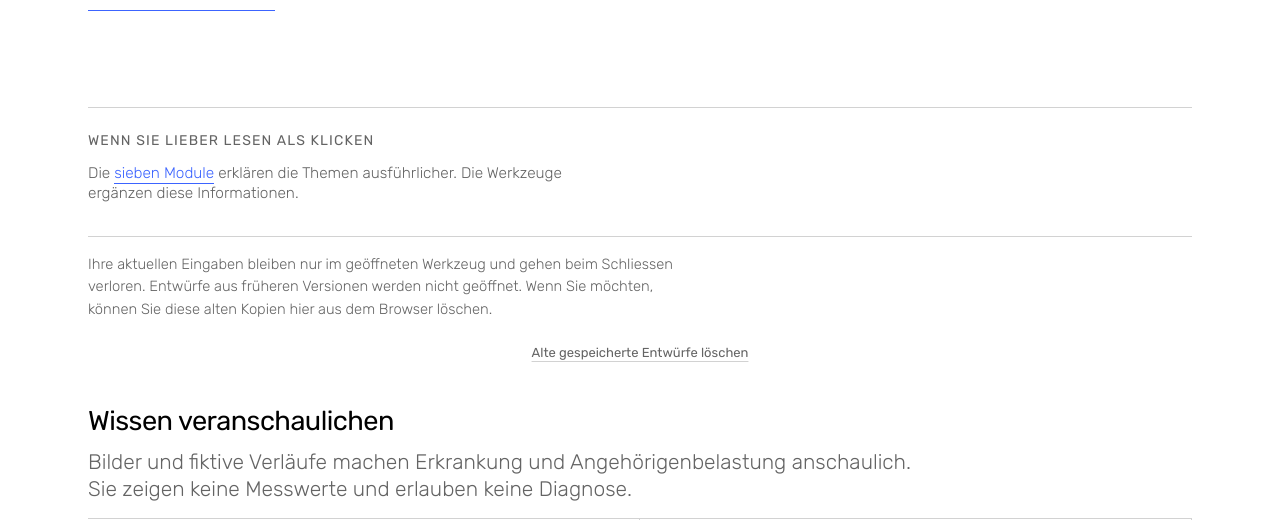
Test case: WerkzeugePage legacy draft deletion › deletes both historical drafts after confirmation and preserves unrelated data
This screenshot has width=1280, height=520.
(page scrolled)
Step 1. Click the button "Alte gespeicherte Entwürfe löschen" → (640, 353), box [88,331,1192,375]
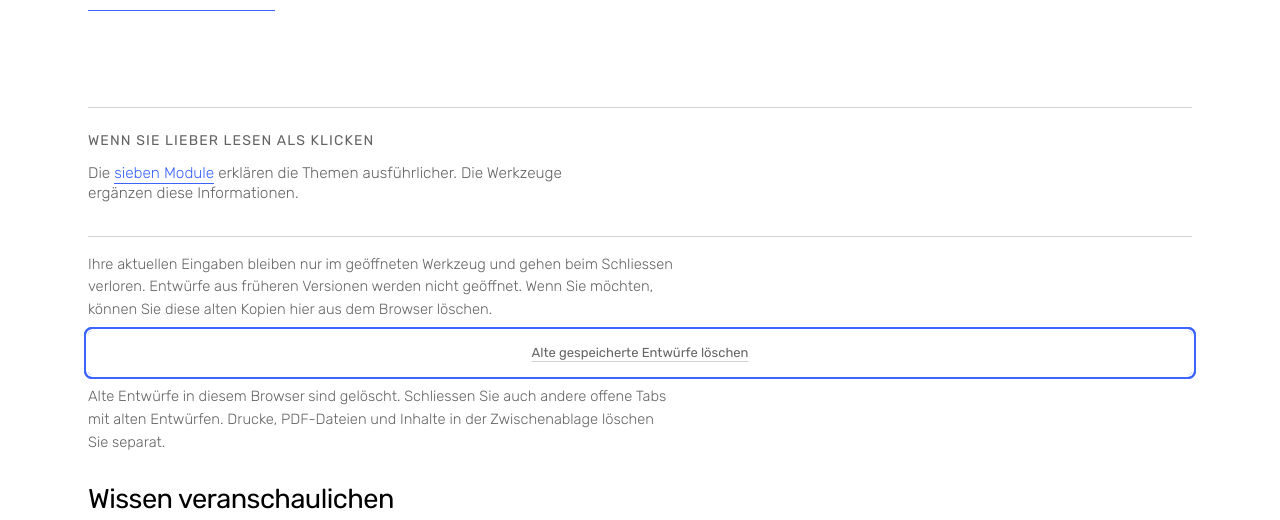
Check: the message shows "Alte Entwürfe in diesem Browser sind gelöscht.", box [88,387,666,451]
